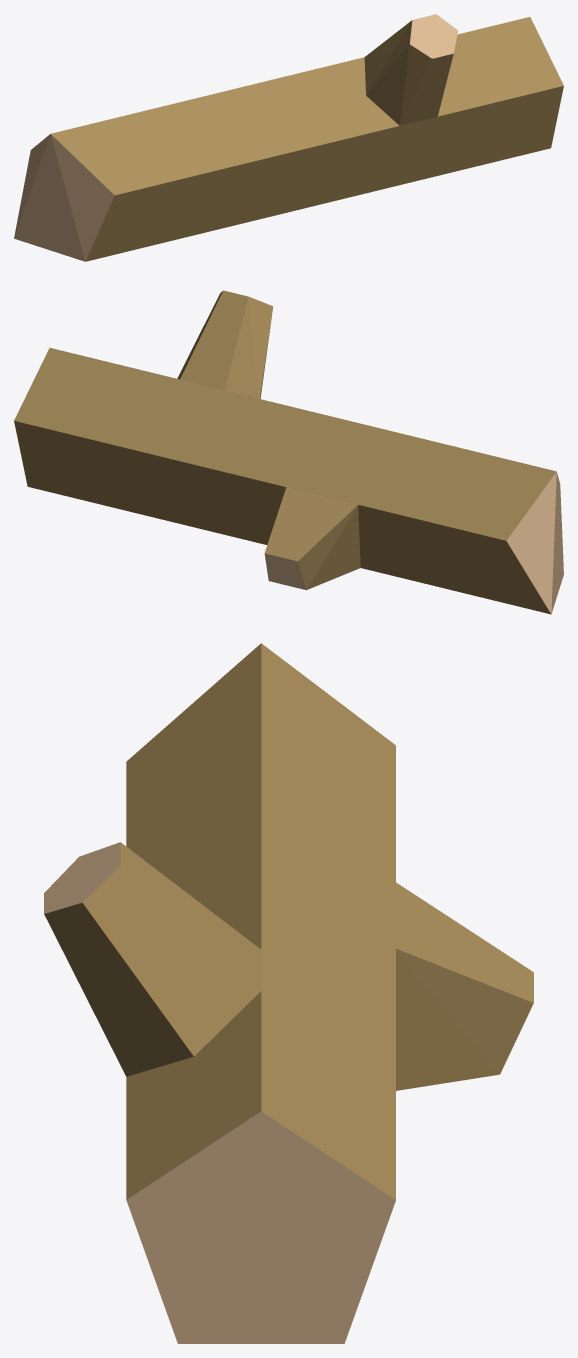
File: Oak_Firewood_02_LOD.fbx
3 views of the same model, one above another, from view 1: azimuth 30°, elevation 25°; view 2: azimuth 150°, elevation 25°; view 3: azimuth 270°, elevation 25° (orthographic). The views are drawn at different scales.
Parts seen in each view (by area): view 1: Oak_Firewood_02_LOD0; view 2: Oak_Firewood_02_LOD0; view 3: Oak_Firewood_02_LOD0.
Part boxes in pixels (<box>): Oak_Firewood_02_LOD0: <box>14,14,563,261</box>; Oak_Firewood_02_LOD0: <box>14,290,563,614</box>; Oak_Firewood_02_LOD0: <box>44,643,533,1343</box>.
Size of what is drawn, in the model's own units: 56 by 19.03 by 23.97.
